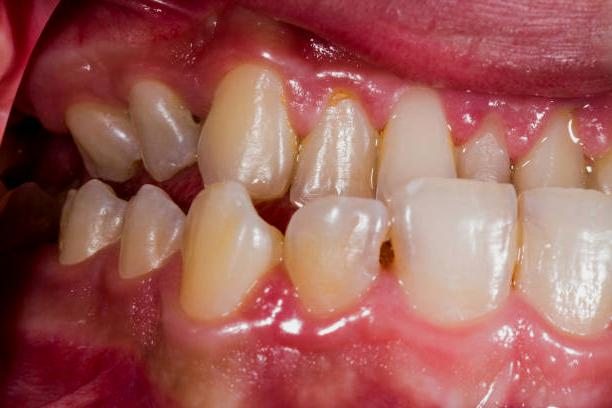Gingivitis: (232, 271, 384, 381), (174, 26, 319, 91)
